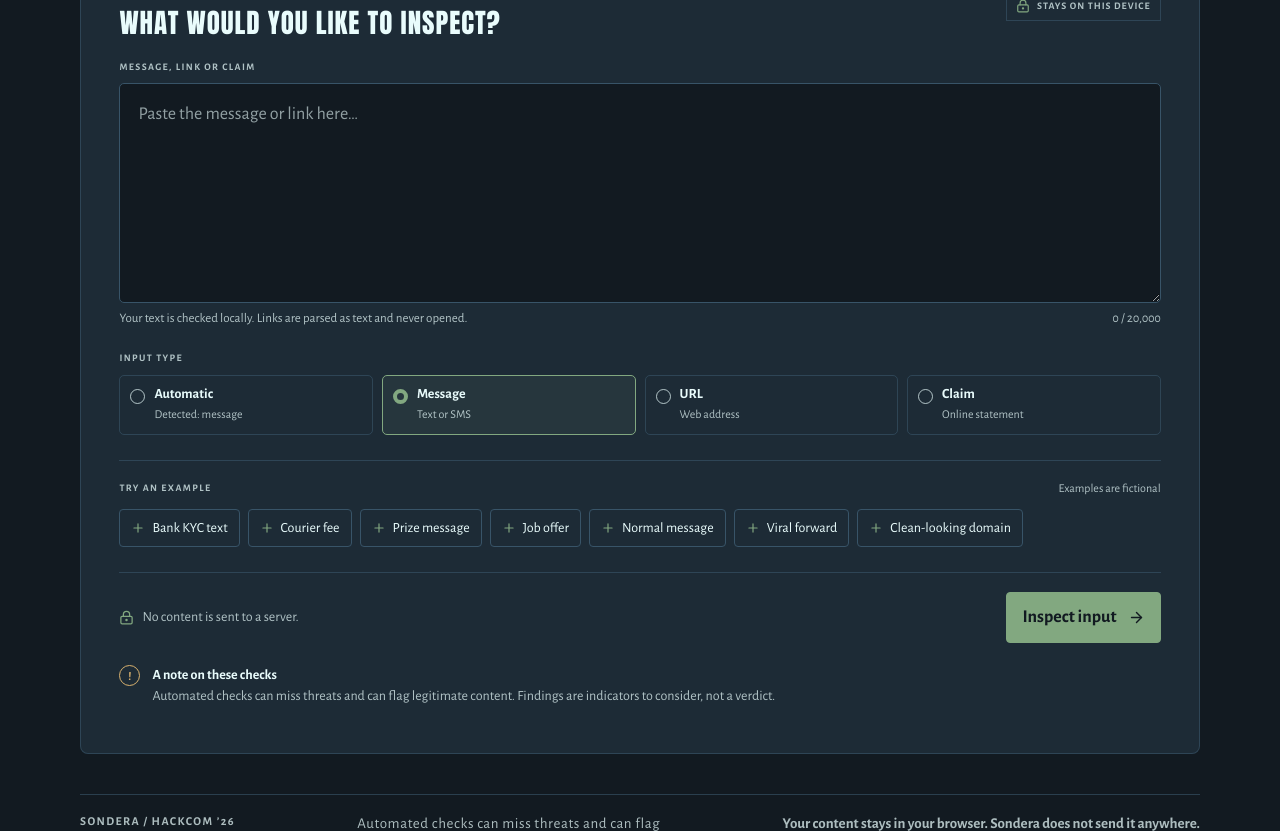
Test: Sondera Submit and Inspect › allows input type override and benign messages can produce no indicators
(page scrolled)
Click the button "Normal message". click: (657, 528)
box: left=589, top=509, right=726, bottom=547
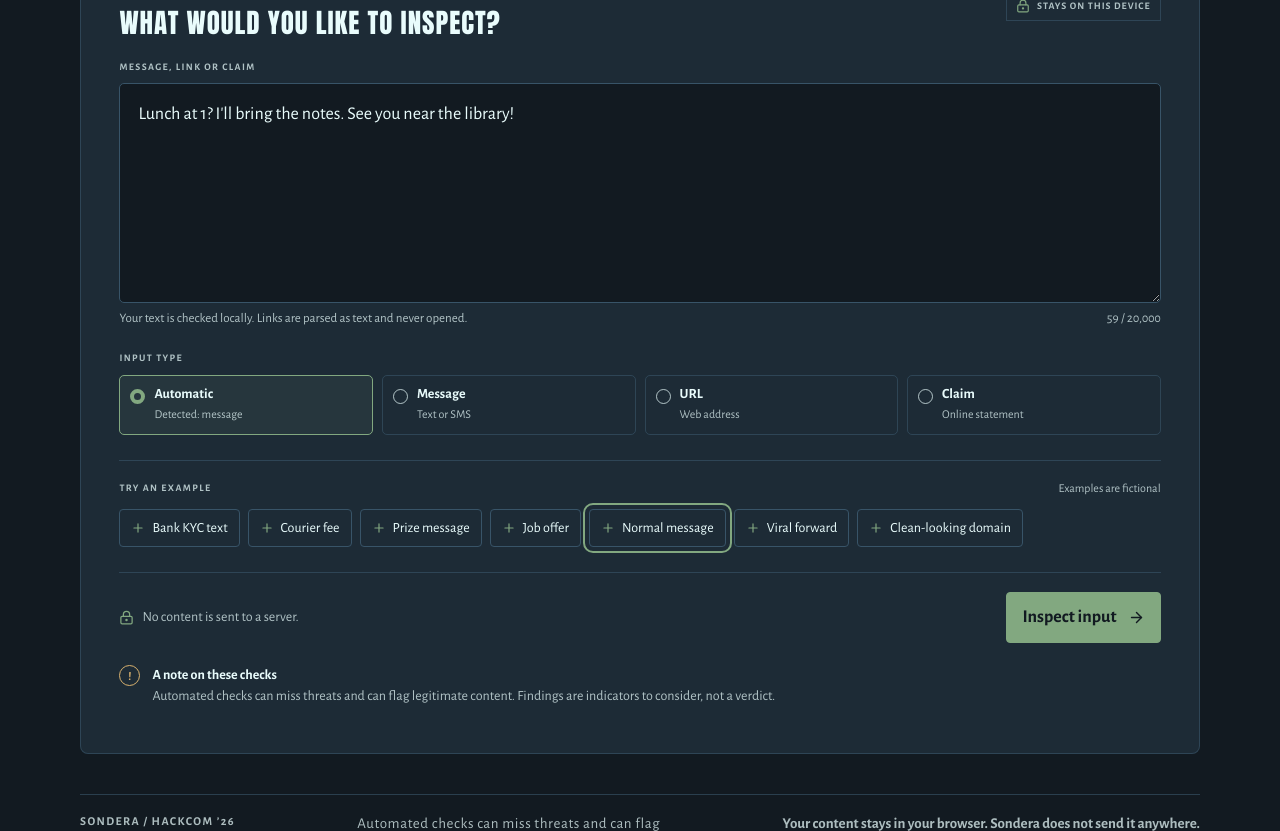
Click the radio button labelled "URL Web address". click: (771, 405)
box: left=644, top=375, right=898, bottom=435
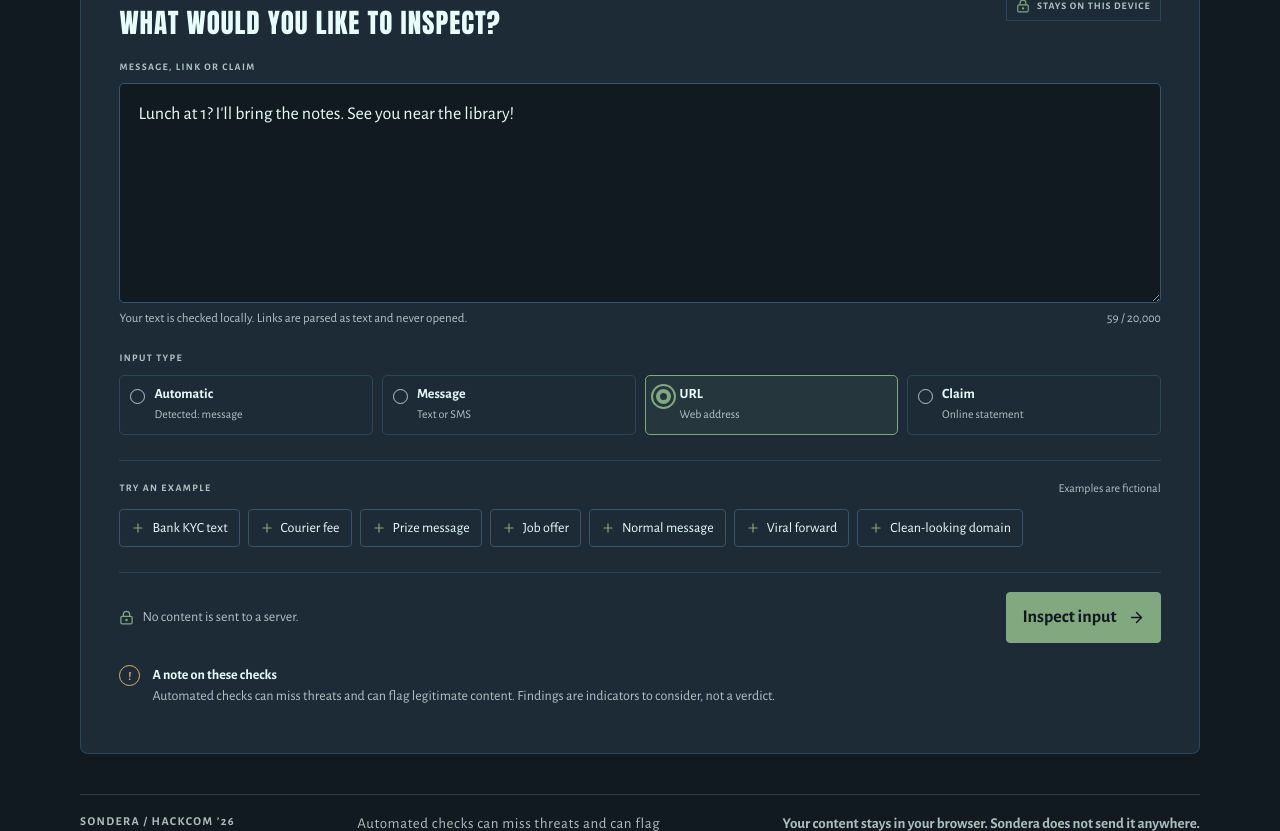
Click the button "Inspect input". click: (1084, 618)
box: left=1006, top=592, right=1161, bottom=643
(page scrolled)
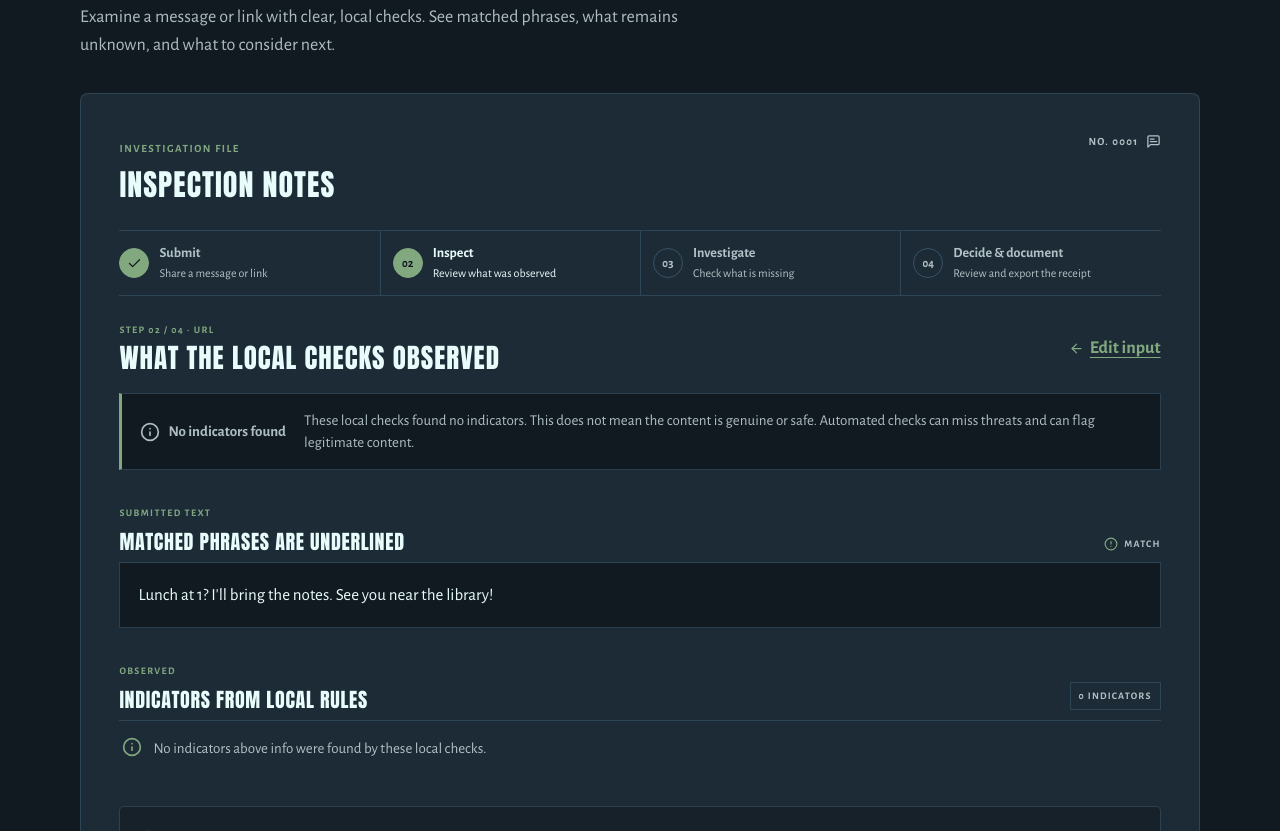
Expected: the text "STEP 02 / 04 · URL" is shown, left=119, top=325, right=214, bottom=335
Expected: the text "No indicators found" is shown, left=168, top=420, right=286, bottom=444
Expected: the text "These local checks found no indicators" is shown, left=304, top=413, right=1095, bottom=450
